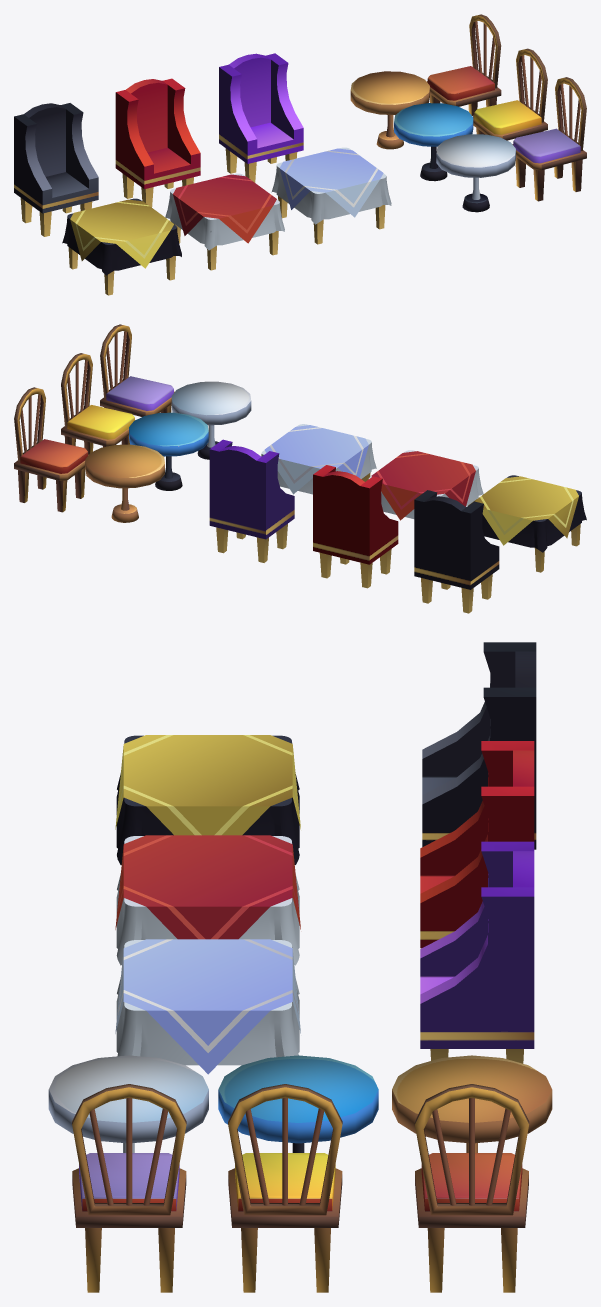
Rendered from Ban ghe 2.fbx.
The picture shows the model from 3 angles, top to bottom: view 1: azimuth 30°, elevation 25°; view 2: azimuth 150°, elevation 25°; view 3: azimuth 270°, elevation 25°; orthographic projection. The views are drawn at different scales.
Parts seen in each view (by area): view 1: ghe vuong 1, ghe vuong 2, ghe vuong 3, ban vuong 1, ban vuong 3, ban vuong 2, ghe go 3, ghe go 1, ban tron 3, ghe go 2, ban tron 1, ban tron 2; view 2: ghe vuong 3, ghe vuong 1, ghe vuong 2, ban vuong 1, ban vuong 3, ban vuong 2, ghe go 1, ghe go 2, ban tron 1, ghe go 3, ban tron 2, ban tron 3; view 3: ban vuong 3, ban vuong 2, ghe vuong 3, ban vuong 1, ghe go 3, ghe go 1, ghe go 2, ghe vuong 2, ghe vuong 1, ban tron 2, ban tron 3, ban tron 1.
Part boxes in pixels (x1,y1,x2,y2): ghe vuong 1: [14, 103, 98, 236]; ghe vuong 2: [115, 78, 200, 207]; ghe vuong 3: [219, 53, 303, 182]; ban vuong 1: [62, 198, 181, 295]; ban vuong 3: [271, 147, 391, 244]; ban vuong 2: [165, 173, 284, 270]; ghe go 3: [512, 77, 586, 201]; ghe go 1: [427, 14, 501, 115]; ban tron 3: [436, 134, 515, 212]; ghe go 2: [473, 48, 547, 140]; ban tron 1: [350, 71, 429, 149]; ban tron 2: [394, 103, 473, 181]; ghe vuong 3: [209, 439, 294, 562]; ghe vuong 1: [414, 490, 499, 613]; ghe vuong 2: [313, 465, 398, 588]; ban vuong 1: [474, 475, 586, 572]; ban vuong 3: [261, 424, 376, 494]; ban vuong 2: [368, 450, 483, 520]; ghe go 1: [14, 387, 88, 512]; ghe go 2: [61, 353, 134, 454]; ban tron 1: [85, 444, 164, 522]; ghe go 3: [100, 324, 174, 416]; ban tron 2: [129, 412, 208, 490]; ban tron 3: [171, 381, 251, 459]; ban vuong 3: [115, 939, 300, 1074]; ban vuong 2: [115, 835, 300, 965]; ghe vuong 3: [420, 841, 534, 1063]; ban vuong 1: [115, 735, 300, 864]; ghe go 3: [72, 1084, 186, 1292]; ghe go 1: [414, 1084, 529, 1292]; ghe go 2: [228, 1084, 342, 1292]; ghe vuong 2: [420, 741, 534, 948]; ghe vuong 1: [422, 642, 536, 849]; ban tron 2: [218, 1055, 378, 1152]; ban tron 3: [48, 1055, 208, 1152]; ban tron 1: [392, 1055, 552, 1152].
Size of the model in its own units: 7790 by 1712 by 3597.
Materials: 1 (1 with a texture image).
